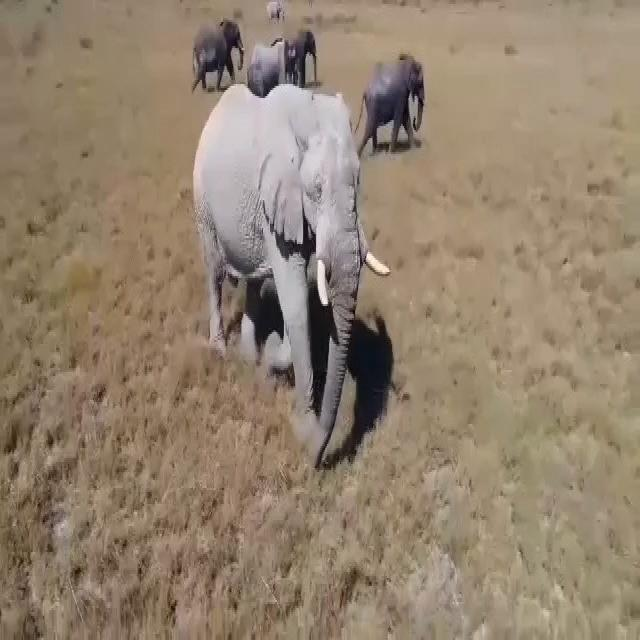Elephant: (192, 82, 386, 447), (362, 49, 433, 161), (190, 25, 245, 87), (284, 23, 326, 87), (247, 37, 287, 91), (268, 0, 286, 21)
